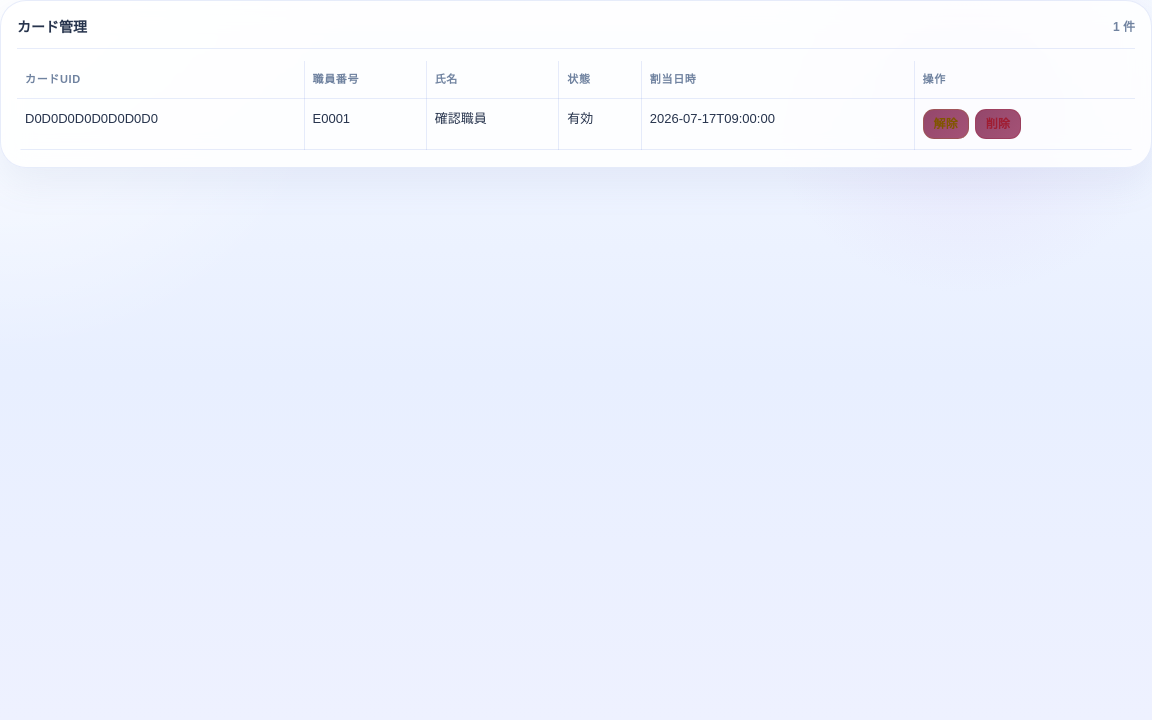
Test: CardsSection › カード削除は確認後にだけ実行される
Later steps or results of the test are not shown.
Click the button "削除" at x=998, y=124, box top-left (975, 109), bottom-right (1021, 139)
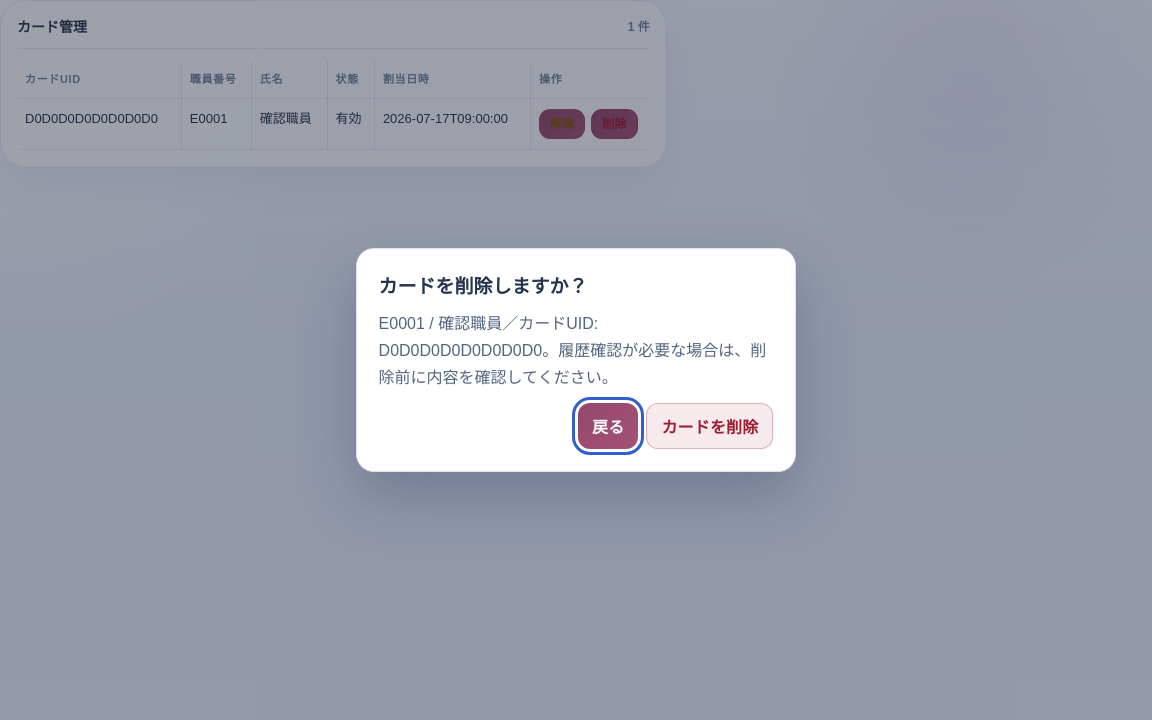
Check: the dialog "カードを削除しますか？" shows "削除前に内容を確認", box top-left (379, 315), bottom-right (766, 386)
